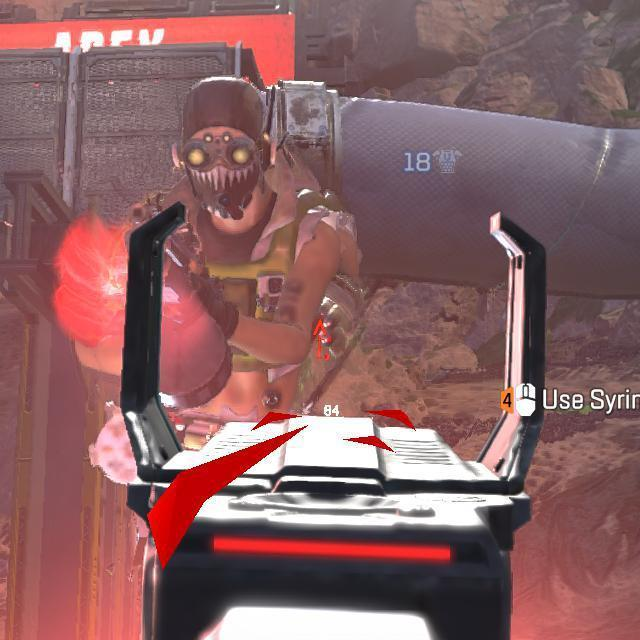avatar: (65, 78, 365, 417)
object: (55, 210, 127, 350)
